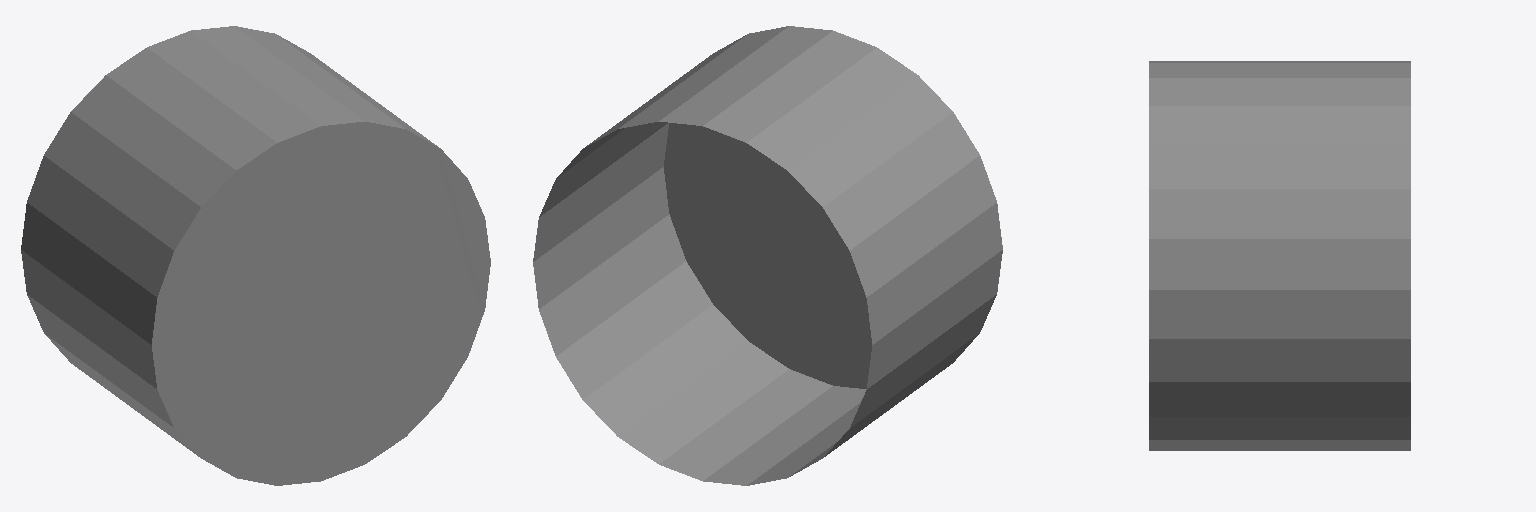
3 views of the same model, side by side, from view 1: azimuth 30°, elevation 25°; view 2: azimuth 150°, elevation 25°; view 3: azimuth 270°, elevation 25° (orthographic).
Size of the model in its own units: 3 by 3 by 2.
Materials: 1 (1 with a texture image).